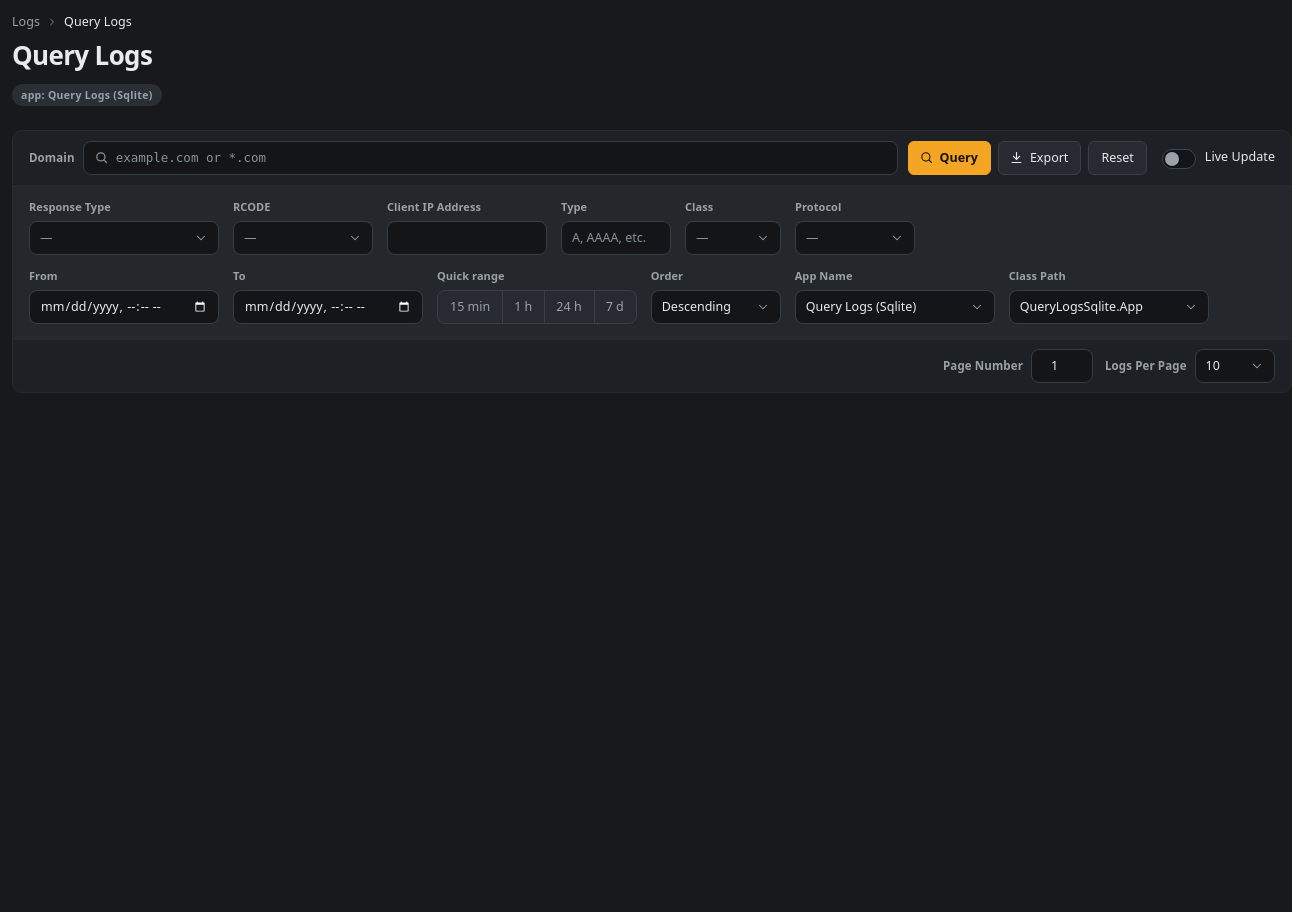
Query Logs: quick ranges › Reset empties From and To and leaves no range pressed
Expected: the dropdown named "App Name" is shown, [795,290,995,324]
Step 1. Click the button "7 d" → (615, 307), box [594,291,636,323]
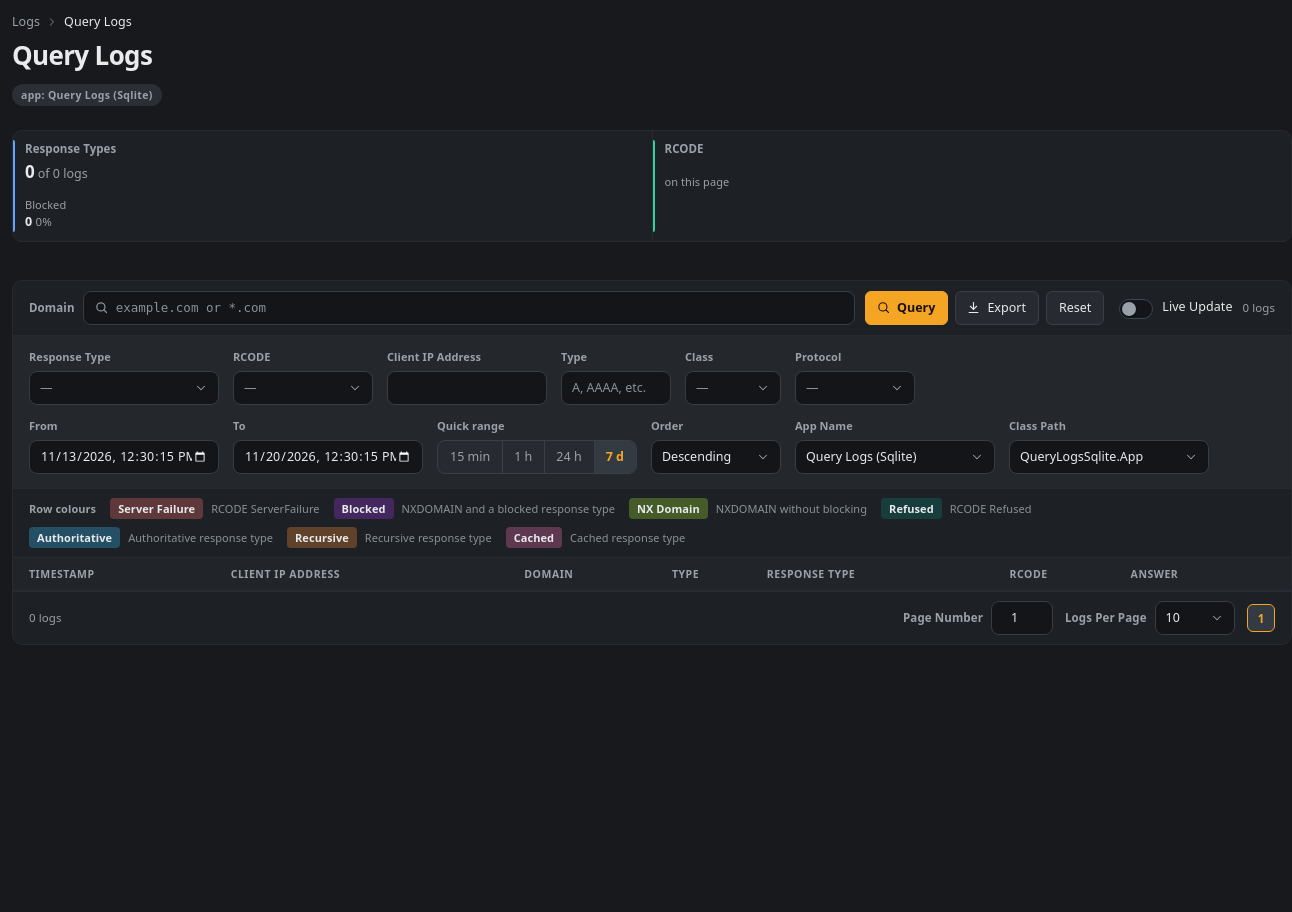
Step 2. Click the button "Reset" → (1075, 308), box [1046,291,1104,325]
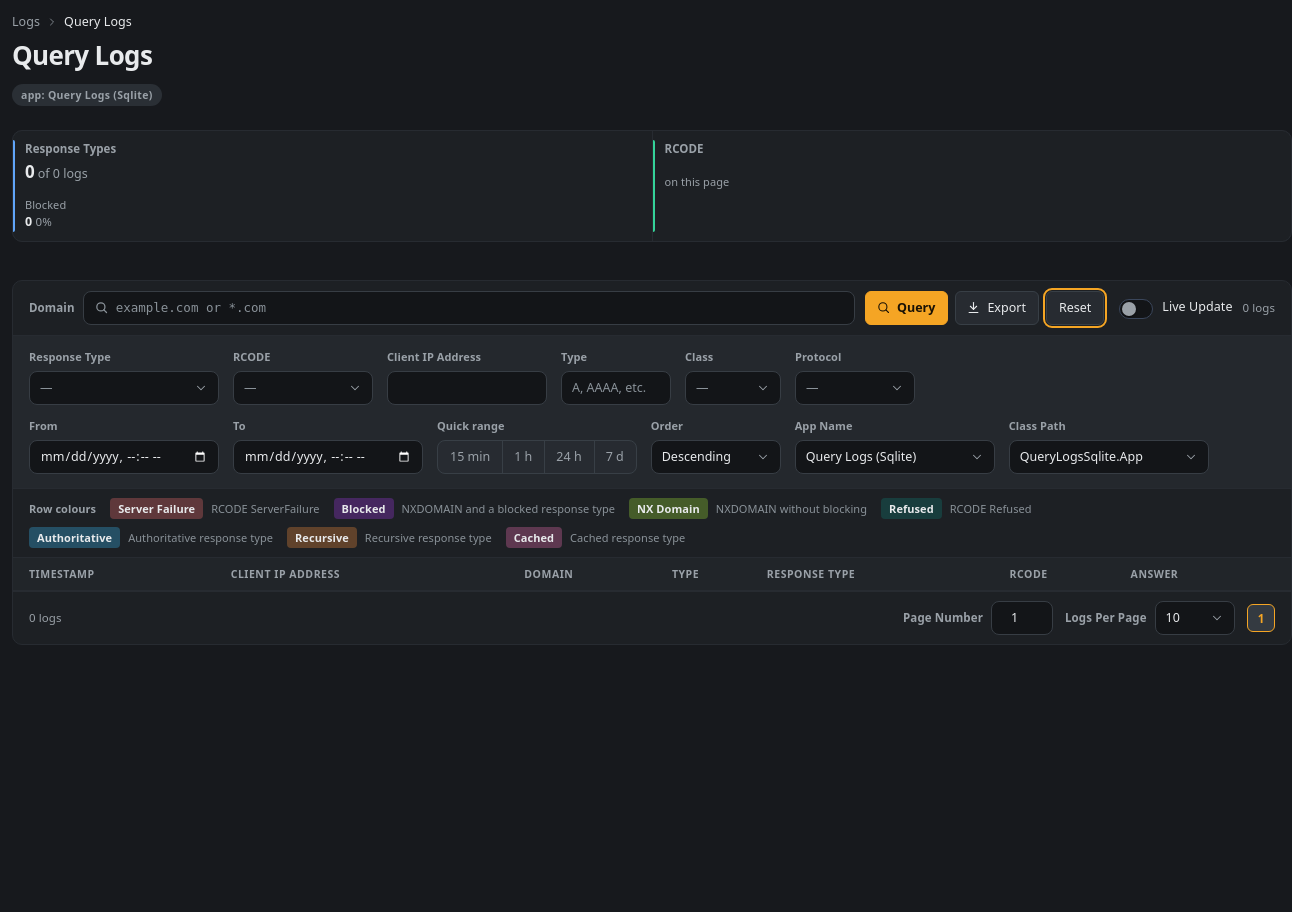
Expected: the field labelled "From" is empty, [29,440,219,474]
Expected: the field labelled "To" is empty, [233,440,423,474]
